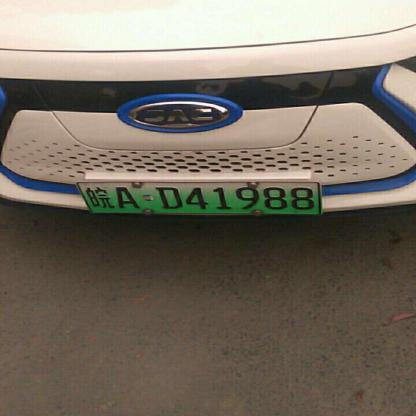lp: (75, 180, 320, 215)
